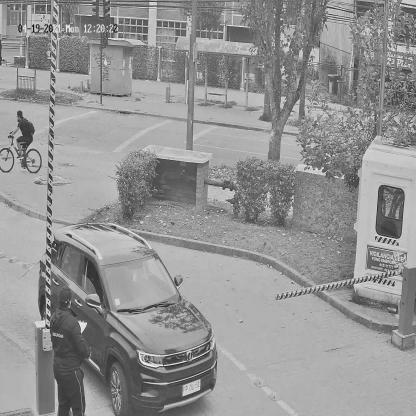Patente: (182, 376, 202, 400)
